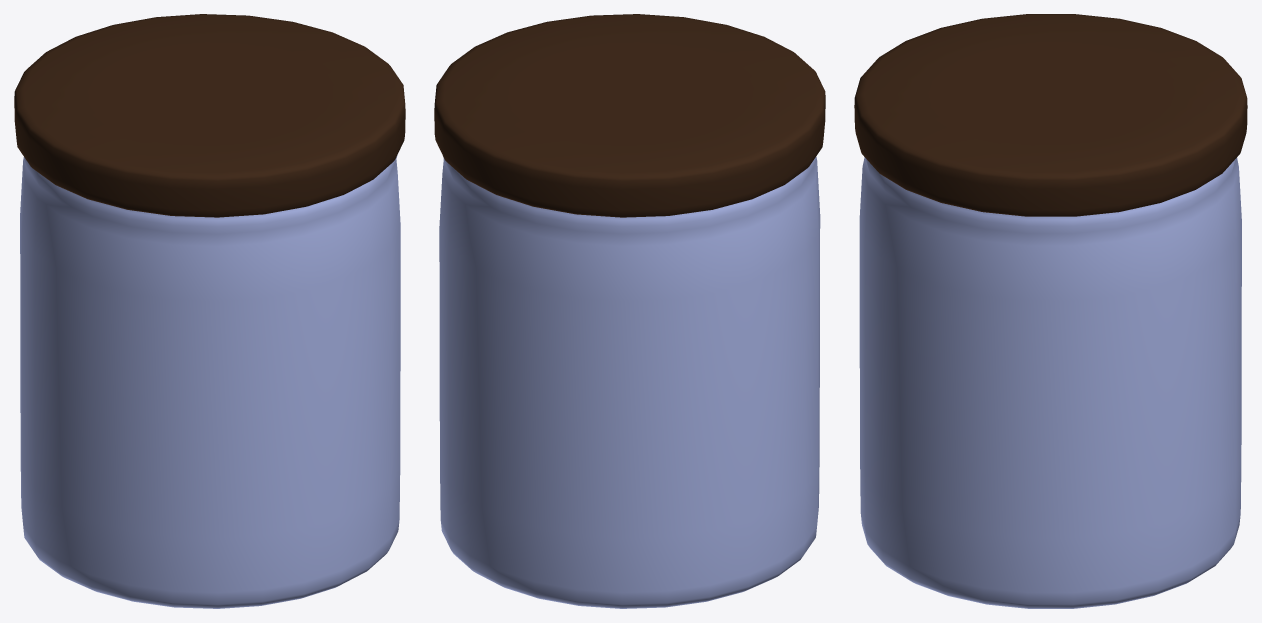
The model's file is Pepper.fbx.
The picture shows the model from 3 angles, left to right: view 1: azimuth 30°, elevation 25°; view 2: azimuth 150°, elevation 25°; view 3: azimuth 270°, elevation 25°; orthographic projection.
Visible parts, largest first — view 1: Cylinder, lid; view 2: Cylinder, lid; view 3: Cylinder, lid.
Part boxes in pixels (x1,y1,x2,y2): Cylinder: (20, 155, 400, 608); lid: (14, 14, 405, 217); Cylinder: (439, 157, 820, 608); lid: (434, 14, 825, 217); Cylinder: (859, 157, 1241, 608); lid: (854, 14, 1247, 216).
Size of the model in its own units: 64.55 by 80.23 by 65.02.
